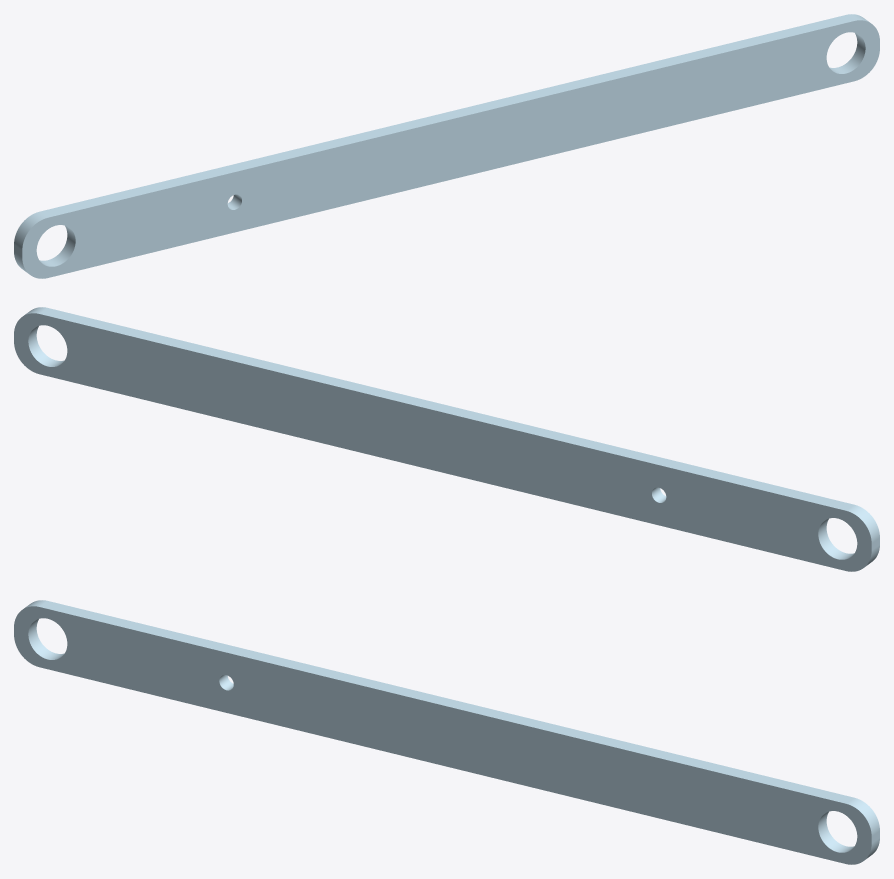
File: turning_rod.gltf
3 views of the same model, one above another, from view 1: azimuth 30°, elevation 25°; view 2: azimuth 150°, elevation 25°; view 3: azimuth 330°, elevation 25° (orthographic).
Parts seen in each view (by area): view 1: mesh1577, mesh1585; view 2: mesh1578, mesh1585; view 3: mesh1577, mesh1585.
Part boxes in pixels (left/top/right/bottom): mesh1577: left=22, top=20, right=879, bottom=278; mesh1585: left=40, top=15, right=853, bottom=217; mesh1578: left=14, top=313, right=871, bottom=571; mesh1585: left=40, top=308, right=853, bottom=510; mesh1577: left=14, top=606, right=871, bottom=864; mesh1585: left=40, top=601, right=853, bottom=803.
Bounding box in the file's own units: 0.119 × 0.008 × 0.002.
